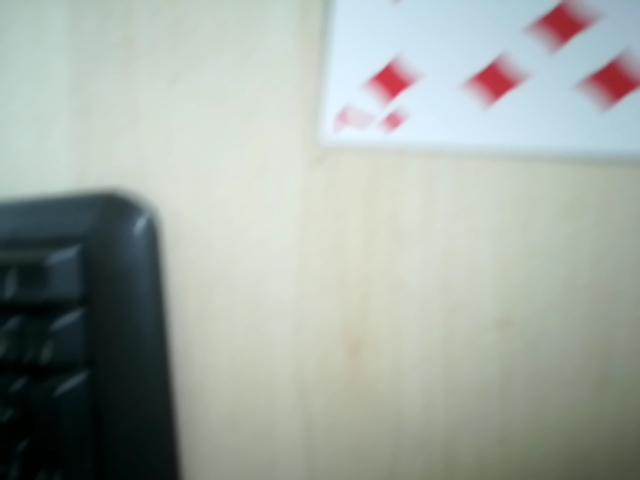fk 7: (348, 10, 634, 146), (329, 98, 414, 148)
